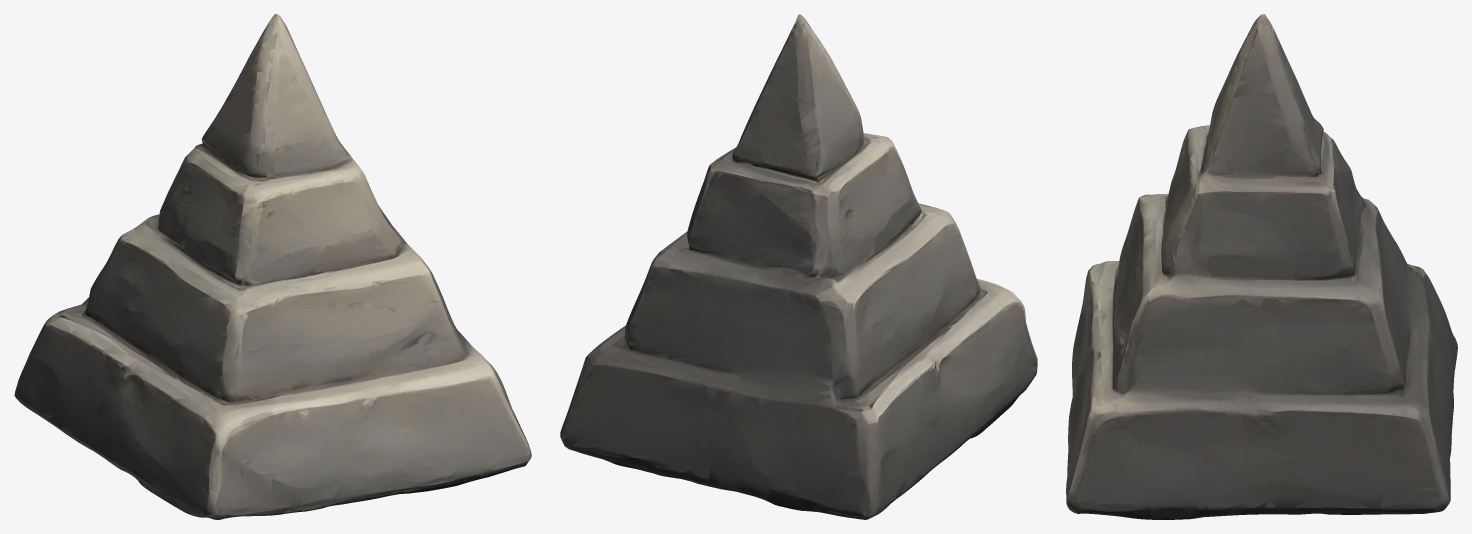
File: piramit_tas.glb
3 renders of one model, left to right at view 1: azimuth 30°, elevation 25°; view 2: azimuth 150°, elevation 25°; view 3: azimuth 270°, elevation 25°, orthographic. The views are drawn at different scales.
Visible parts, largest first — view 1: tripo_node_bc8b6a77-c3ef-4658-a634-63a5513ff54f; view 2: tripo_node_bc8b6a77-c3ef-4658-a634-63a5513ff54f; view 3: tripo_node_bc8b6a77-c3ef-4658-a634-63a5513ff54f.
Boxes of the visible parts, bbox=[...] form: tripo_node_bc8b6a77-c3ef-4658-a634-63a5513ff54f: bbox=[14, 14, 531, 519]; tripo_node_bc8b6a77-c3ef-4658-a634-63a5513ff54f: bbox=[560, 14, 1037, 519]; tripo_node_bc8b6a77-c3ef-4658-a634-63a5513ff54f: bbox=[1066, 14, 1457, 519].
Bounding box in the file's own units: 0.7956 × 0.9779 × 0.8077.
1 material, 1 textured.
